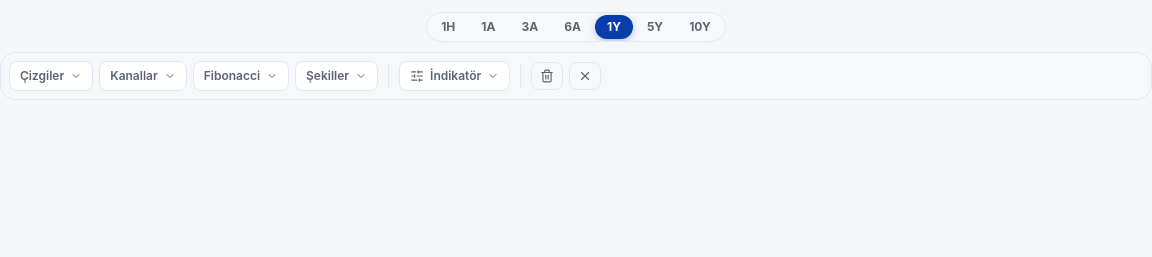
Scenario: FxChart — İndikatör menüsü (MA / osilatör) › MA20'ye tıklayınca chart üzerinde MA indikatörü (calcParams 20 içeren) oluşturulur
The width and height of the screenshot is (1152, 257).
Click the button "İndikatör": (455, 76) 399,61 -> 510,91
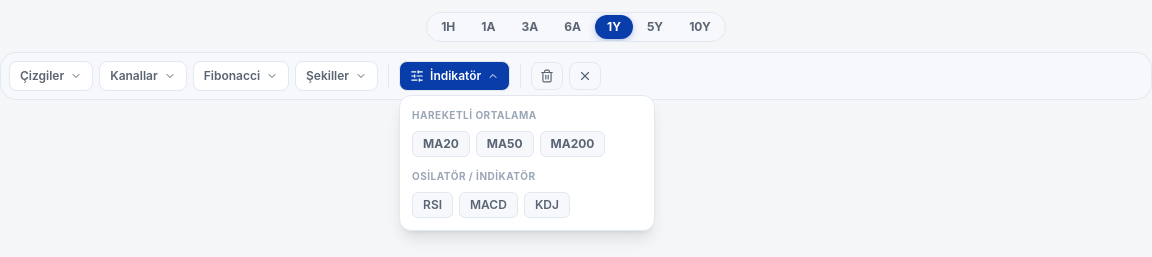
Click the button "MA20": (441, 144) 412,131 -> 470,157
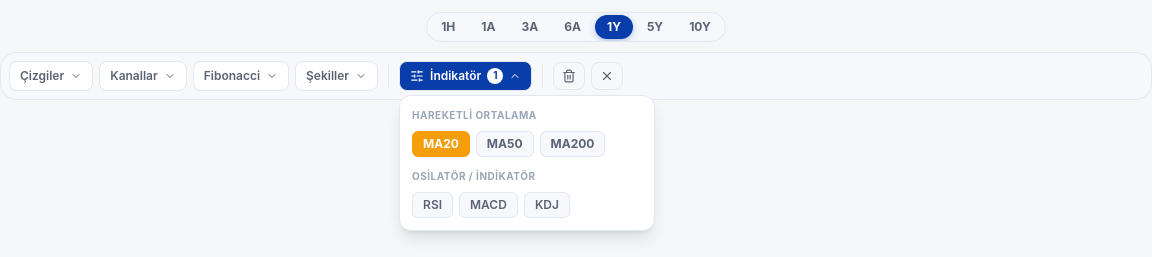
Expected: the text "1" is shown, 487,68 -> 503,84
